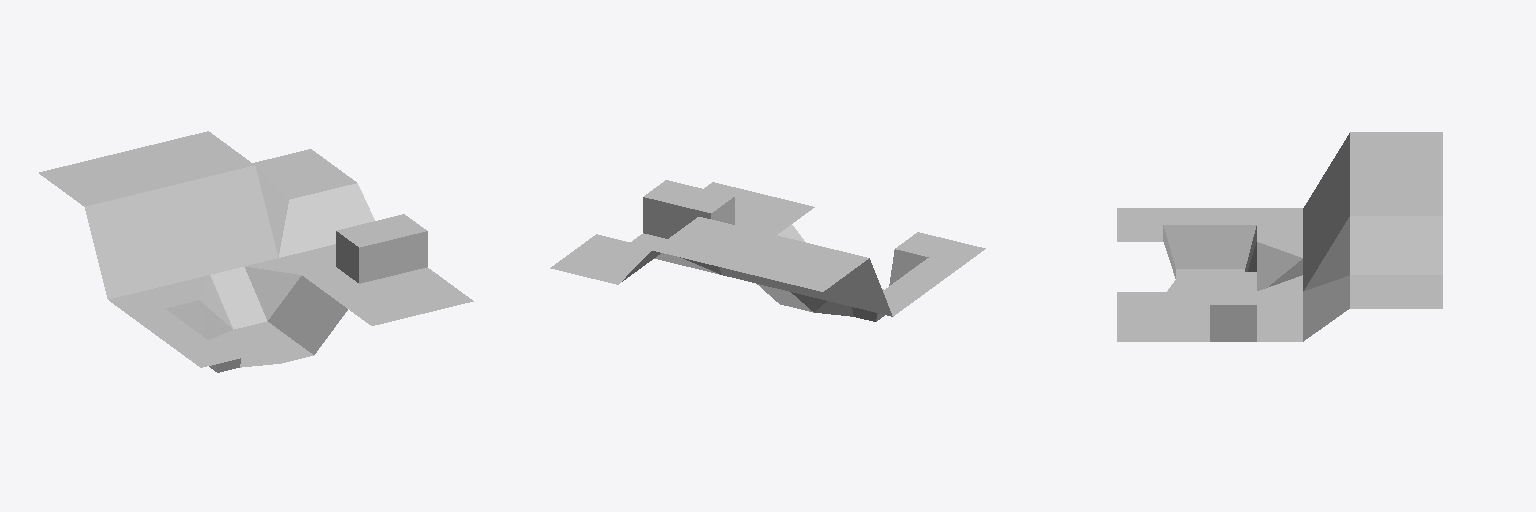
Rendered from sampleLevel.obj.
The picture shows the model from 3 angles: view 1: azimuth 30°, elevation 25°; view 2: azimuth 150°, elevation 25°; view 3: azimuth 270°, elevation 25°; orthographic projection.
Parts seen in each view (by area): view 1: sampleLevel:pPlane1; view 2: sampleLevel:pPlane1; view 3: sampleLevel:pPlane1.
Boxes of the visible parts, box(x1,y1,x2,y2) form: sampleLevel:pPlane1: box(39, 131, 473, 372); sampleLevel:pPlane1: box(550, 180, 985, 321); sampleLevel:pPlane1: box(1117, 132, 1442, 341).
Size of the model in its own units: 46.27 by 18.39 by 47.85.